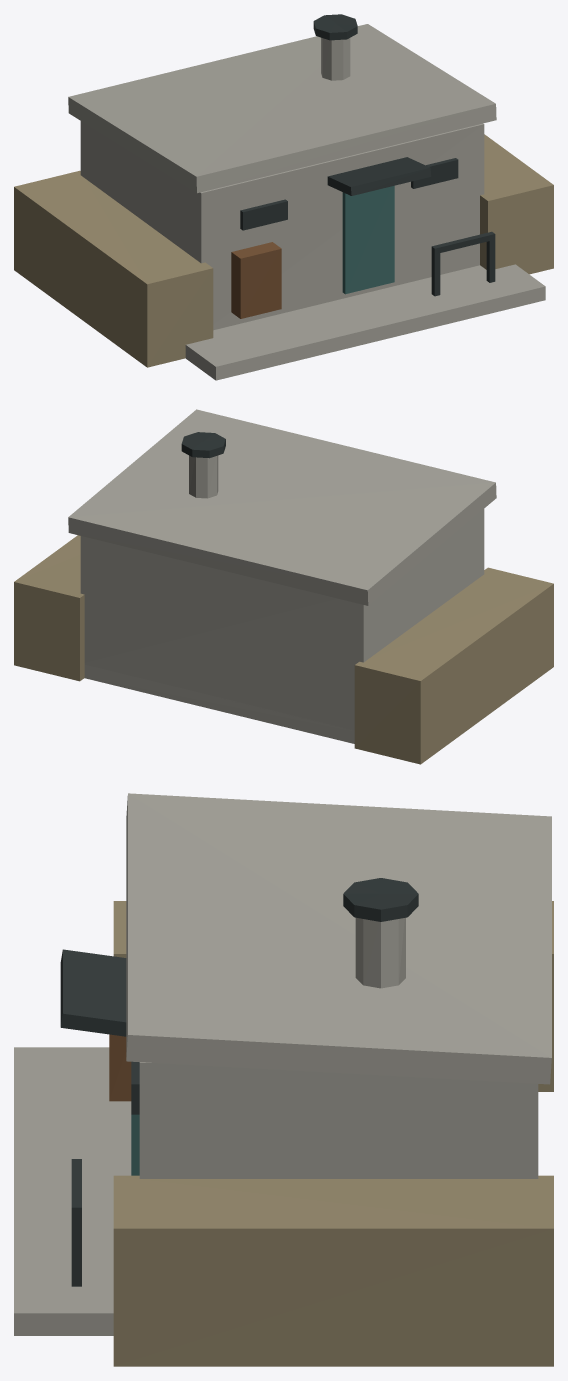
The model's file is Storm-shelter.glb.
3 renders of one model, top to bottom at view 1: azimuth 30°, elevation 25°; view 2: azimuth 150°, elevation 25°; view 3: azimuth 270°, elevation 25°, orthographic. The views are drawn at different scales.
Visible parts, largest first — view 1: storm-shelter-static-storm-shelter-pale-reinforced-concrete, storm-shelter-static-storm-shelter-muted-earth-berms, storm-shelter-static-storm-shelter-charcoal-canopy-vents-rai, storm-shelter-static-storm-shelter-muted-teal-blast-door, storm-shelter-static-storm-shelter-warm-timber-emergency-cab; view 2: storm-shelter-static-storm-shelter-pale-reinforced-concrete, storm-shelter-static-storm-shelter-muted-earth-berms, storm-shelter-static-storm-shelter-charcoal-canopy-vents-rai; view 3: storm-shelter-static-storm-shelter-pale-reinforced-concrete, storm-shelter-static-storm-shelter-muted-earth-berms, storm-shelter-static-storm-shelter-charcoal-canopy-vents-rai, storm-shelter-static-storm-shelter-warm-timber-emergency-cab.
Boxes of the visible parts, <box> form: storm-shelter-static-storm-shelter-pale-reinforced-concrete: <box>68,24,545,380</box>; storm-shelter-static-storm-shelter-muted-earth-berms: <box>14,134,553,367</box>; storm-shelter-static-storm-shelter-charcoal-canopy-vents-rai: <box>240,14,495,296</box>; storm-shelter-static-storm-shelter-muted-teal-blast-door: <box>342,185,394,294</box>; storm-shelter-static-storm-shelter-warm-timber-emergency-cab: <box>231,242,281,318</box>; storm-shelter-static-storm-shelter-pale-reinforced-concrete: <box>68,409,496,743</box>; storm-shelter-static-storm-shelter-muted-earth-berms: <box>14,535,553,764</box>; storm-shelter-static-storm-shelter-charcoal-canopy-vents-rai: <box>181,432,225,458</box>; storm-shelter-static-storm-shelter-pale-reinforced-concrete: <box>14,793,551,1335</box>; storm-shelter-static-storm-shelter-muted-earth-berms: <box>113,901,553,1366</box>; storm-shelter-static-storm-shelter-charcoal-canopy-vents-rai: <box>60,878,418,1286</box>; storm-shelter-static-storm-shelter-warm-timber-emergency-cab: <box>109,1034,131,1101</box>.
Bounding box in the file's own units: 7.4 × 3.82 × 5.15.
